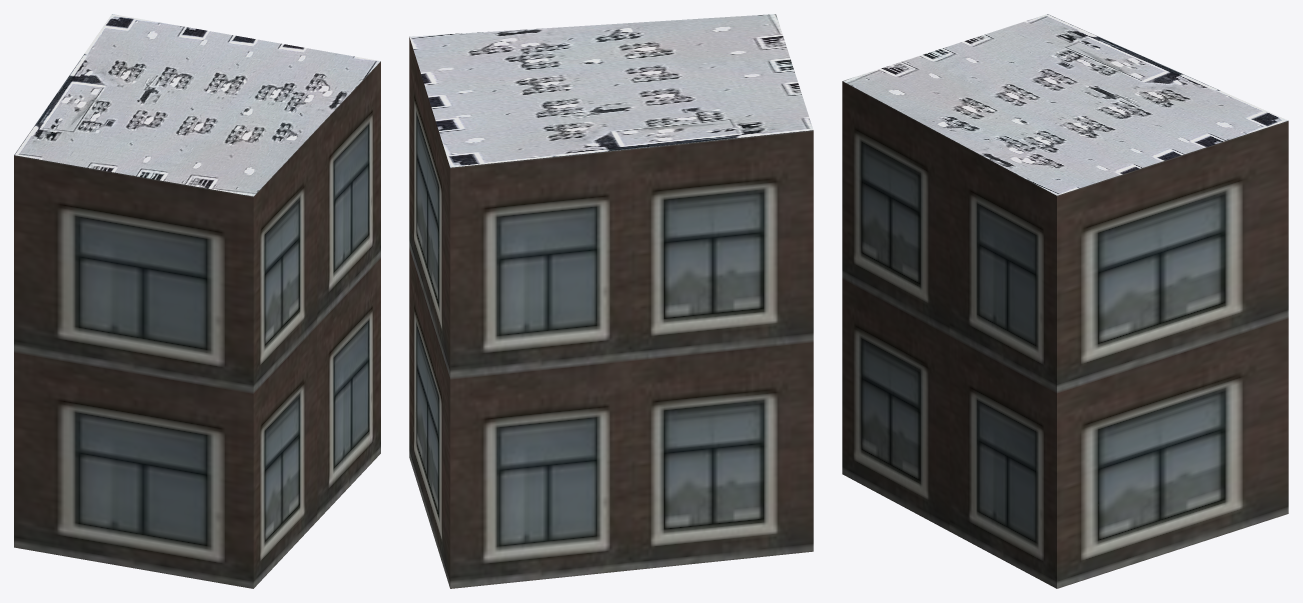
File: ResTex__2508.fbx
The picture shows the model from 3 angles, left to right: view 1: azimuth 30°, elevation 25°; view 2: azimuth 150°, elevation 25°; view 3: azimuth 270°, elevation 25°; orthographic projection. The views are drawn at different scales.
Parts seen in each view (by area): view 1: CityEngineMaterial_16_m, CityEngineMaterial_15_m; view 2: CityEngineMaterial_16_m, CityEngineMaterial_15_m; view 3: CityEngineMaterial_16_m, CityEngineMaterial_15_m.
Boxes of the visible parts, box(x1,y1,x2,y2) form: CityEngineMaterial_16_m: box(14, 61, 380, 588); CityEngineMaterial_15_m: box(14, 14, 380, 196); CityEngineMaterial_16_m: box(409, 37, 813, 588); CityEngineMaterial_15_m: box(409, 14, 813, 167); CityEngineMaterial_16_m: box(842, 81, 1288, 588); CityEngineMaterial_15_m: box(843, 14, 1287, 195).
Size of the model in its own units: 5.95 by 6 by 6.17.
2 materials, 2 textured.
